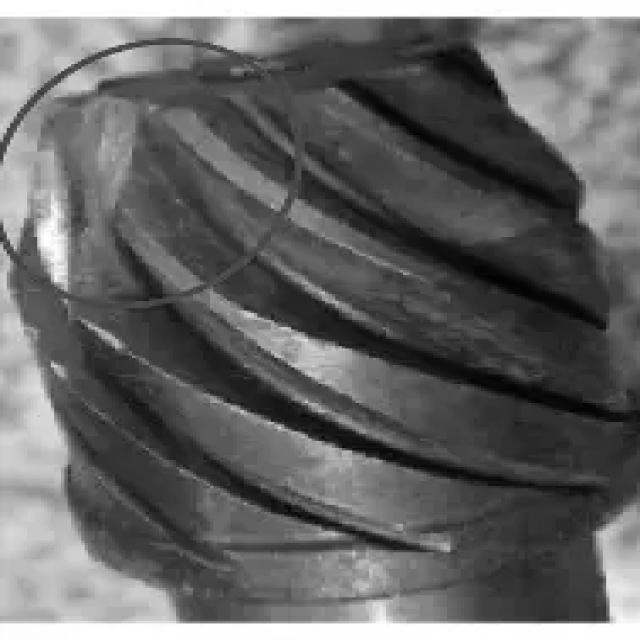Fault-Exist: (16, 59, 240, 350)
